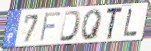7: (23, 13, 40, 43)
D: (58, 10, 83, 43)
F: (38, 11, 63, 44)
L: (122, 8, 139, 38)
Q: (80, 8, 103, 41)
T: (106, 6, 125, 41)
